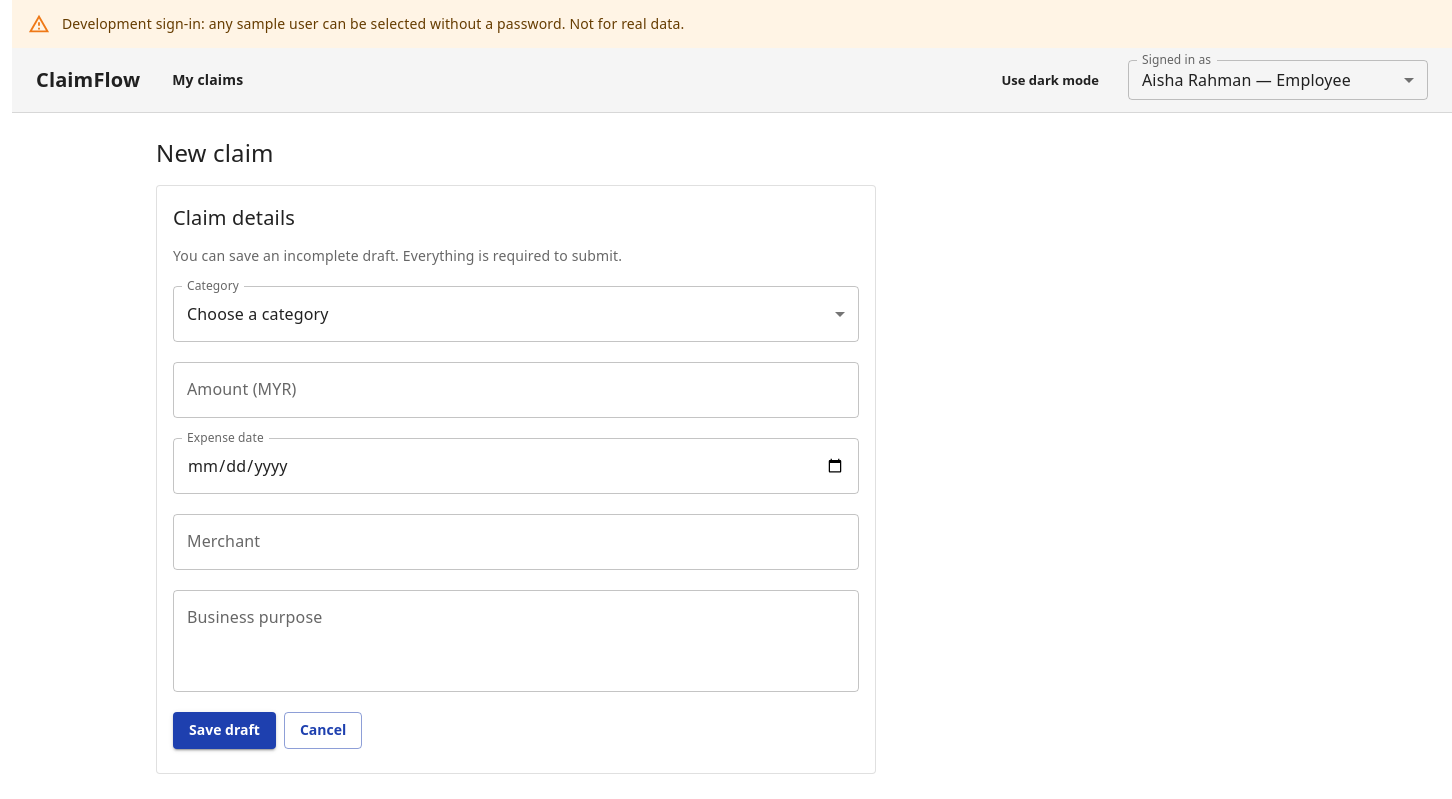
Test: creating a draft › cancels back to the claim list without saving
Click the button "Cancel": [323, 730] box left=284, top=712, right=362, bottom=748
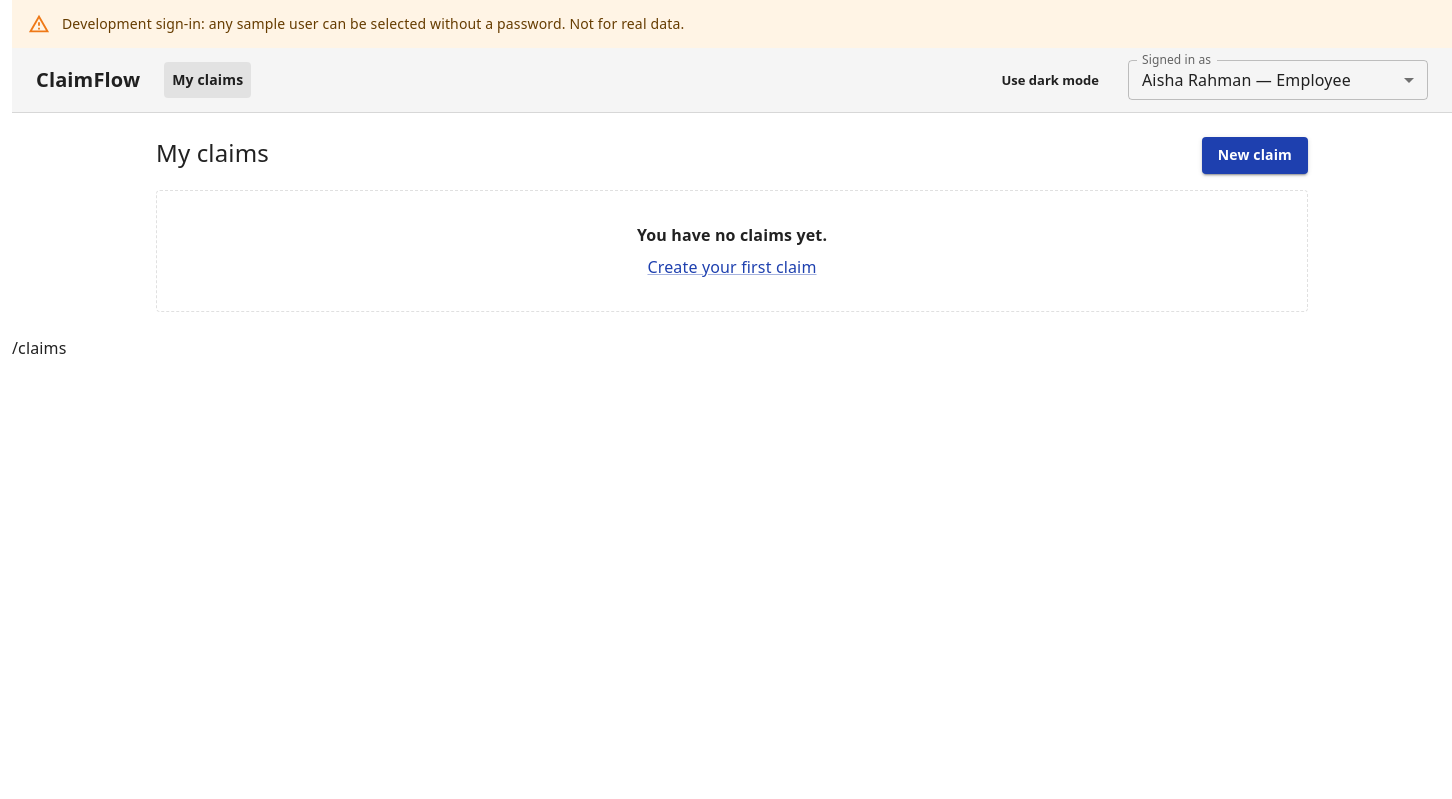
Result: the text named "location" reads "/claims" at left=12, top=336, right=66, bottom=358
